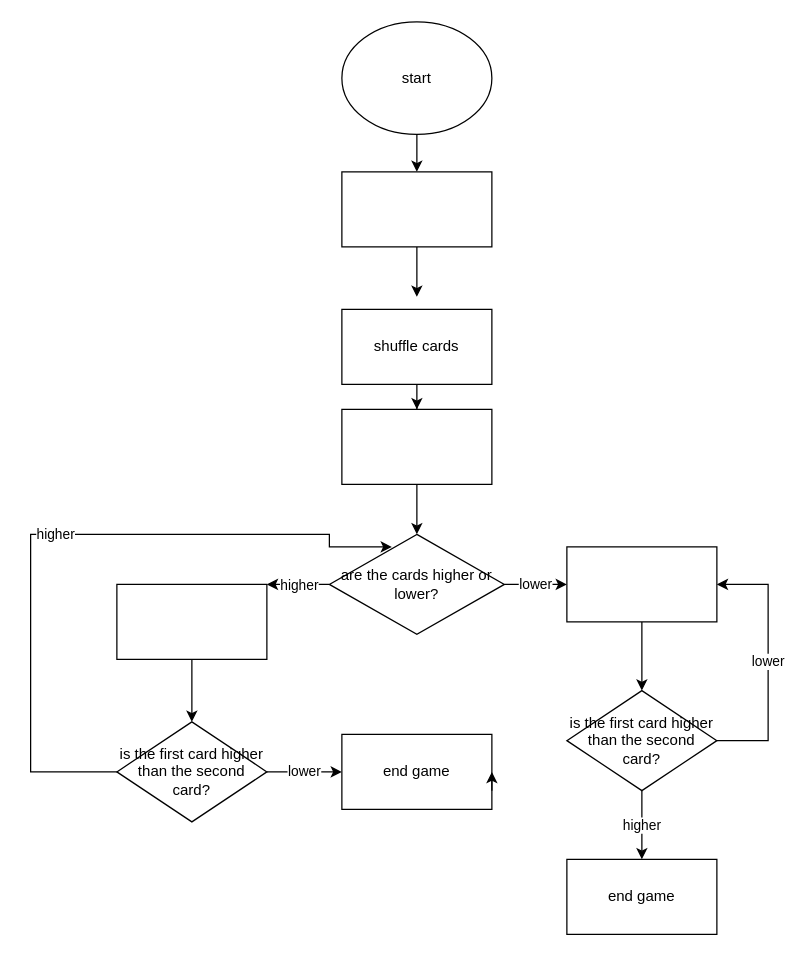
Some shapes in this 806 by 956 pixel diagram are drawn without their labels. Here are the shapes that lost their labels. From the top down, the centre of each, then its label:
At (x=416, y=209): "get all 52 cards".
At (x=416, y=446): "draw one card".
At (x=641, y=584): "both sides draw a second card".
At (x=191, y=621): "both sides draw a card".
